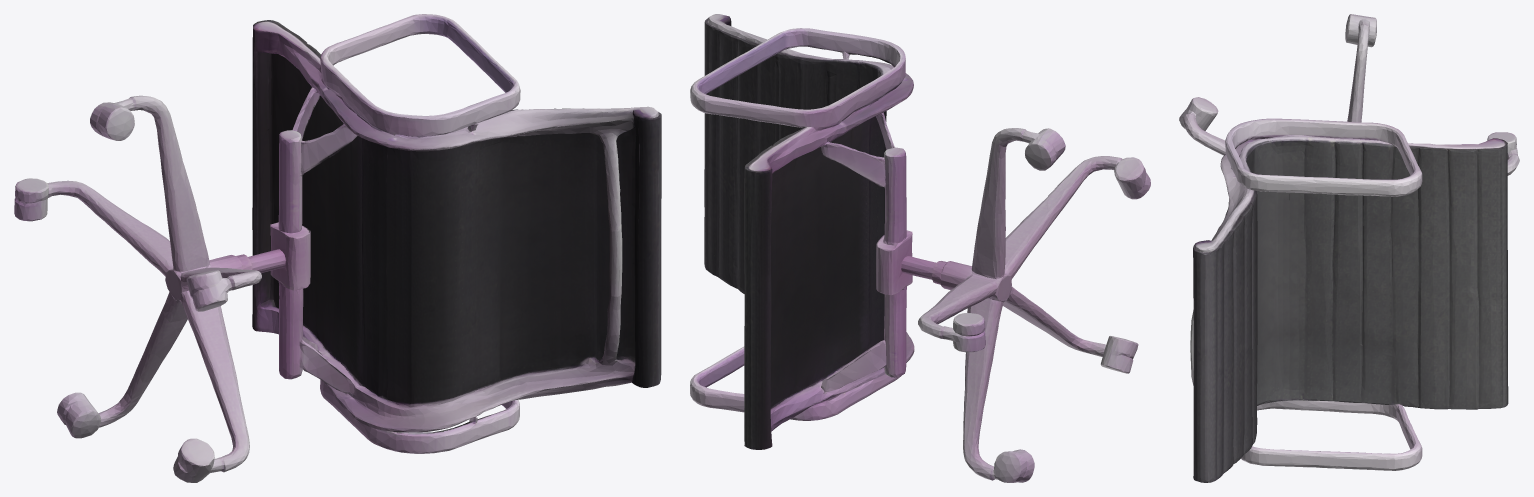
Rendered from original_slat_orient_14_rot_90_y.glb.
3 views of the same model, side by side, from view 1: azimuth 30°, elevation 25°; view 2: azimuth 150°, elevation 25°; view 3: azimuth 270°, elevation 25° (orthographic). The views are drawn at different scales.
Visible parts, largest first — view 1: world; view 2: world; view 3: world.
Part boxes in pixels (x1,y1,x2,y2): world: (14, 14, 661, 482); world: (690, 14, 1150, 482); world: (1179, 14, 1519, 482).
Size of the model in its own units: 0.7001 by 0.505 by 0.5071.
1 material, 1 textured.
